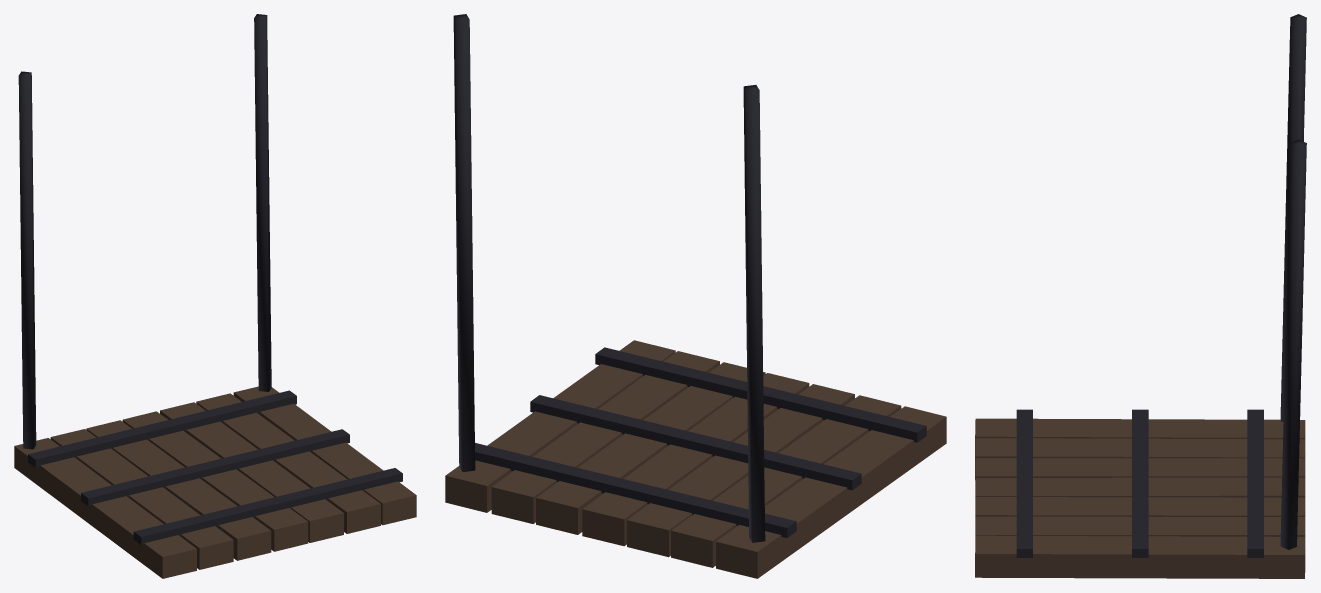
The model's file is drawbridge.glb.
3 views of the same model, side by side, from view 1: azimuth 30°, elevation 25°; view 2: azimuth 150°, elevation 25°; view 3: azimuth 270°, elevation 25° (orthographic). The views are drawn at different scales.
Parts seen in each view (by area): view 1: drawbridge; view 2: drawbridge; view 3: drawbridge.
Part boxes in pixels (box(x1,y1,x2,y2)): drawbridge: box(14, 14, 416, 578); drawbridge: box(445, 14, 946, 578); drawbridge: box(975, 14, 1306, 578).
Bounding box in the file's own units: 1 × 1.44 × 1.01.
